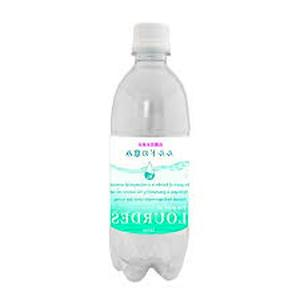Plastic: (103, 20, 192, 284)
